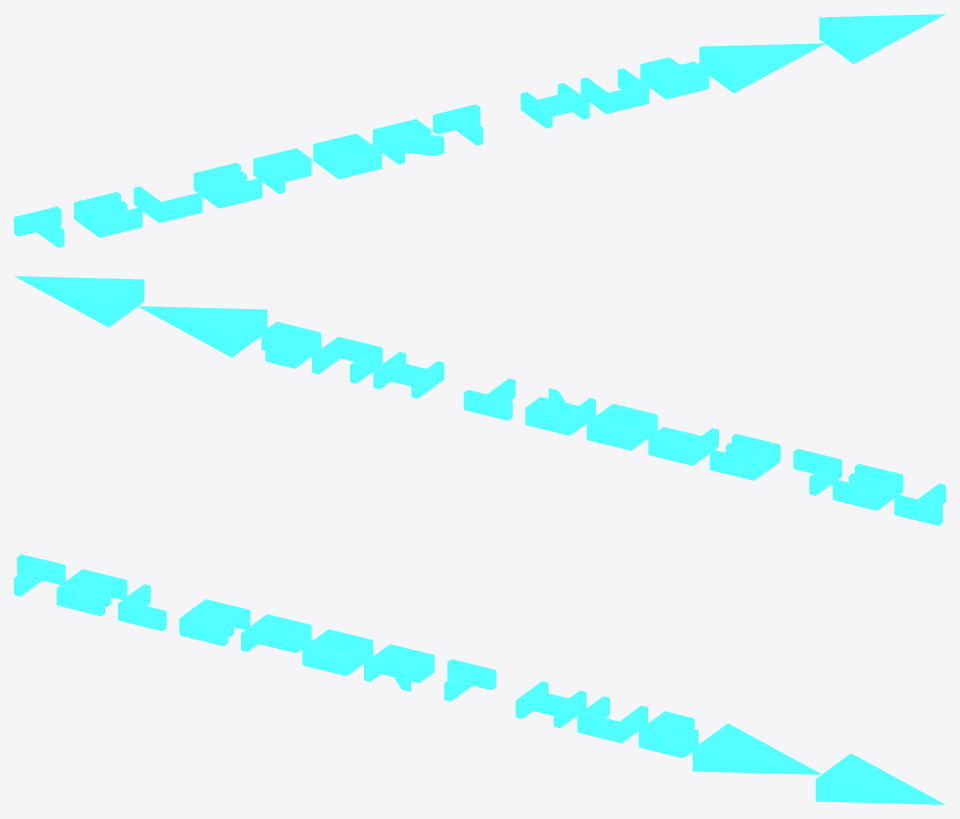
The model's file is FACILITY_TeleportLabelRight.fbx.
3 views of the same model, one above another, from view 1: azimuth 30°, elevation 25°; view 2: azimuth 150°, elevation 25°; view 3: azimuth 330°, elevation 25° (orthographic). The views are drawn at different scales.
Parts seen in each view (by area): view 1: LAB-LABEL.001, Cube.008, Cube.006; view 2: LAB-LABEL.001, Cube.008, Cube.006; view 3: LAB-LABEL.001, Cube.008, Cube.006.
Part boxes in pixels (<box>): LAB-LABEL.001: <box>14,57,709,247</box>; Cube.008: <box>819,14,945,64</box>; Cube.006: <box>699,43,825,93</box>; LAB-LABEL.001: <box>261,321,945,525</box>; Cube.008: <box>14,276,144,327</box>; Cube.006: <box>137,306,267,357</box>; LAB-LABEL.001: <box>14,554,698,758</box>; Cube.008: <box>815,753,945,804</box>; Cube.006: <box>692,723,821,774</box>.
Size of the model in its own units: 1672 by 37.98 by 109.
